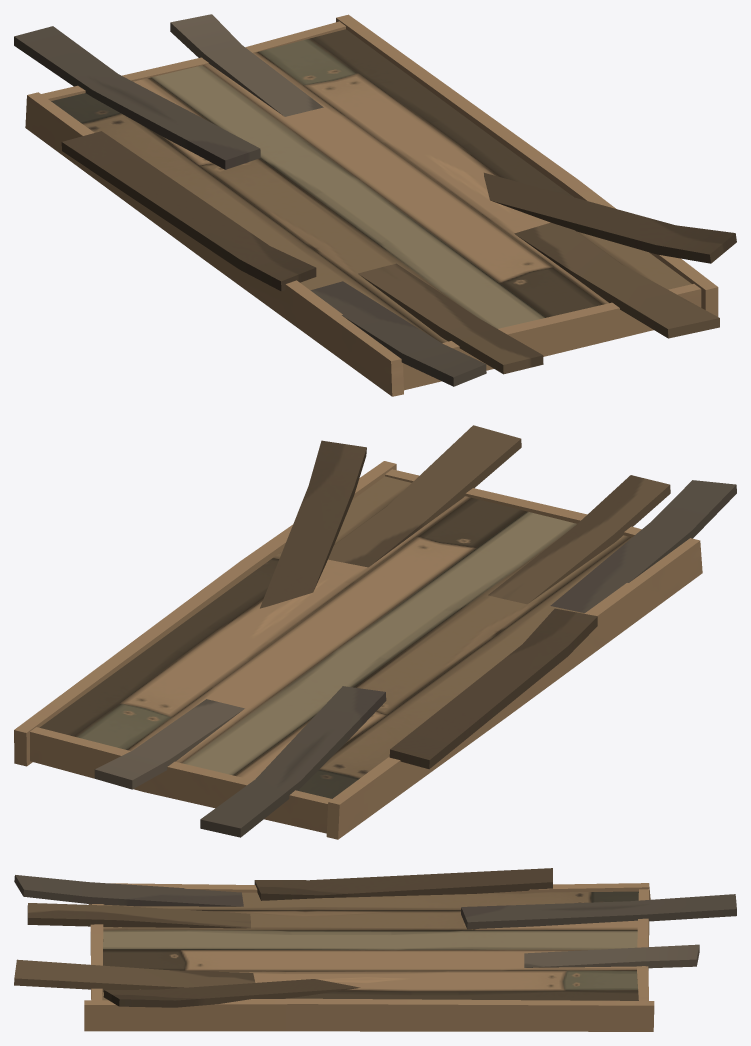
File: SM_Bld_Dock_Damaged_02.fbx
3 renders of one model, top to bottom at view 1: azimuth 30°, elevation 25°; view 2: azimuth 150°, elevation 25°; view 3: azimuth 270°, elevation 25°, orthographic. The views are drawn at different scales.
Parts seen in each view (by area): view 1: SM_Bld_Dock_Damaged_02; view 2: SM_Bld_Dock_Damaged_02; view 3: SM_Bld_Dock_Damaged_02.
Boxes of the visible parts, x1=… form: SM_Bld_Dock_Damaged_02: x1=14, y1=14, x2=736, y2=396; SM_Bld_Dock_Damaged_02: x1=14, y1=425, x2=736, y2=839; SM_Bld_Dock_Damaged_02: x1=14, y1=868, x2=736, y2=1031.
Bounding box in the file's own units: 317 × 49.64 × 659.
Materials: 1 (1 with a texture image).
